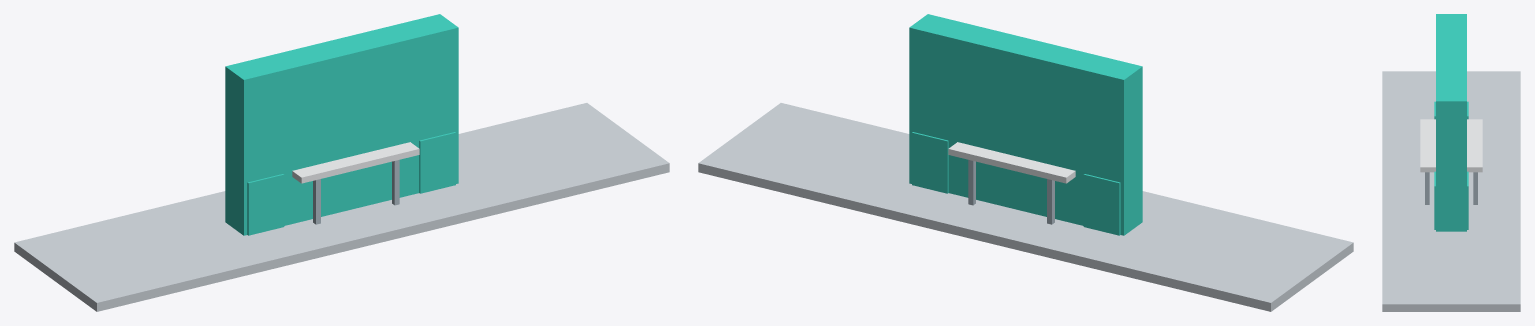
3 renders of one model, left to right at view 1: azimuth 30°, elevation 25°; view 2: azimuth 150°, elevation 25°; view 3: azimuth 270°, elevation 25°, orthographic. The views are drawn at different scales.
Parts seen in each view (by area): view 1: Exhibition Booth Concept; view 2: Exhibition Booth Concept; view 3: Exhibition Booth Concept.
Part boxes in pixels (x1,y1,x2,y2): Exhibition Booth Concept: [14, 14, 669, 311]; Exhibition Booth Concept: [698, 14, 1353, 311]; Exhibition Booth Concept: [1382, 14, 1520, 311].
Size of the model in its own units: 8 by 2.2 by 2.
